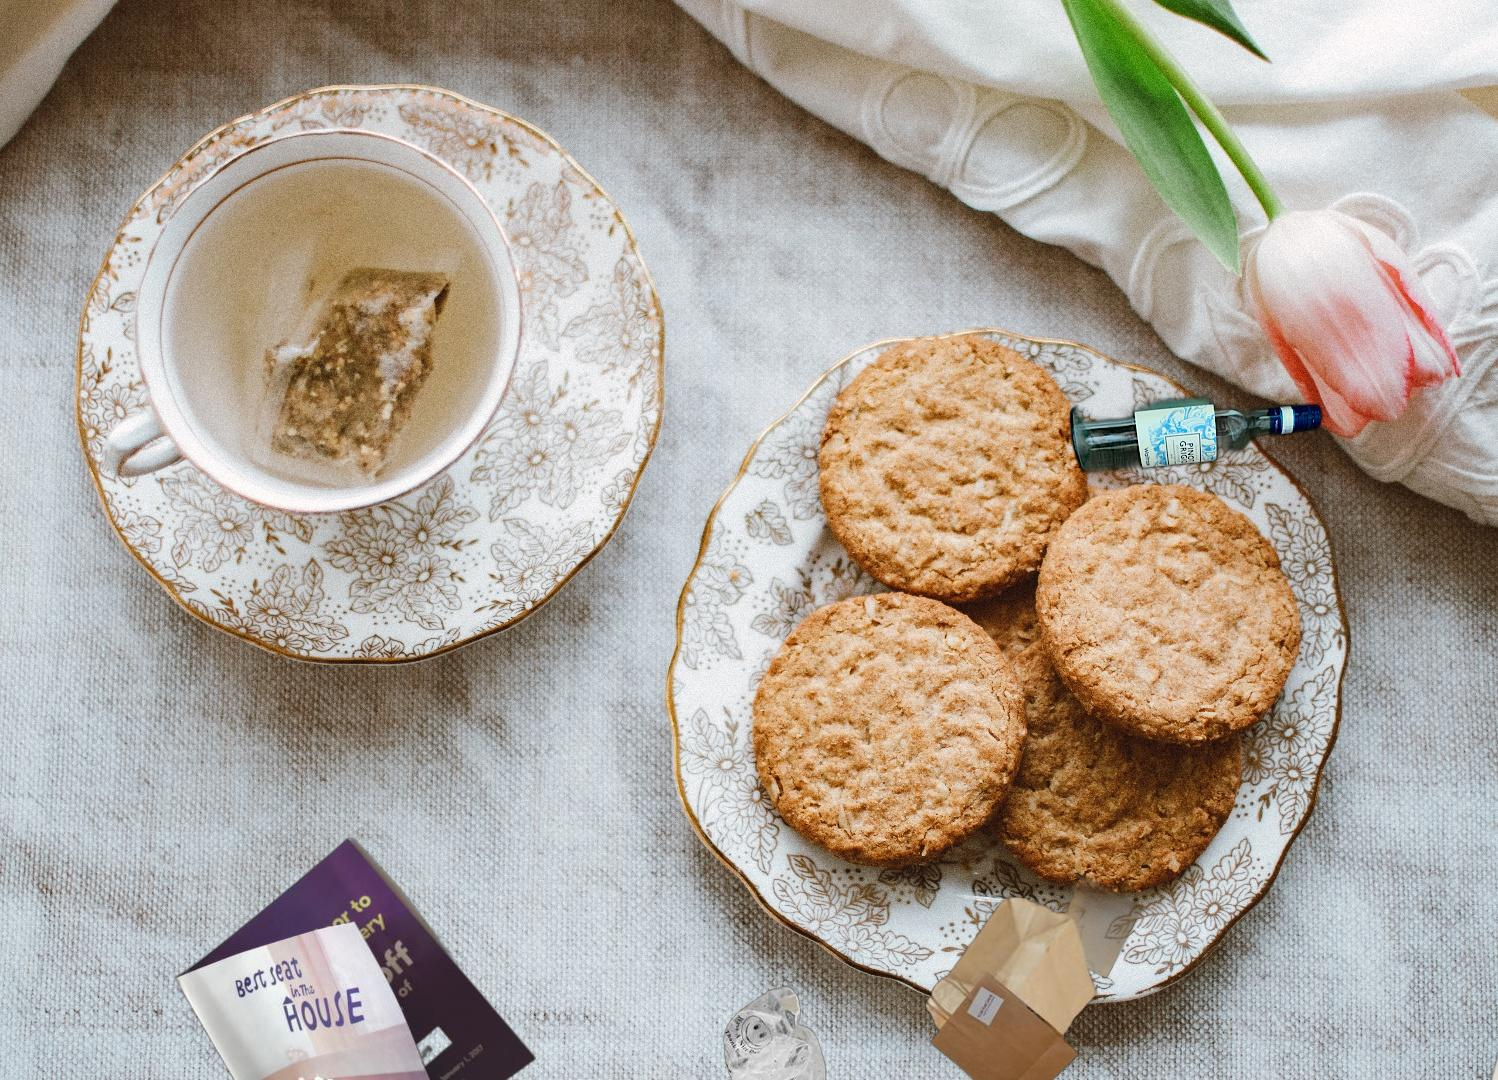glass: (1065, 389, 1328, 478)
paper: (172, 834, 538, 1080), (1468, 902, 1498, 1080)
paper-bag: (923, 866, 1146, 1080)
plastic-bag: (720, 984, 829, 1080)
